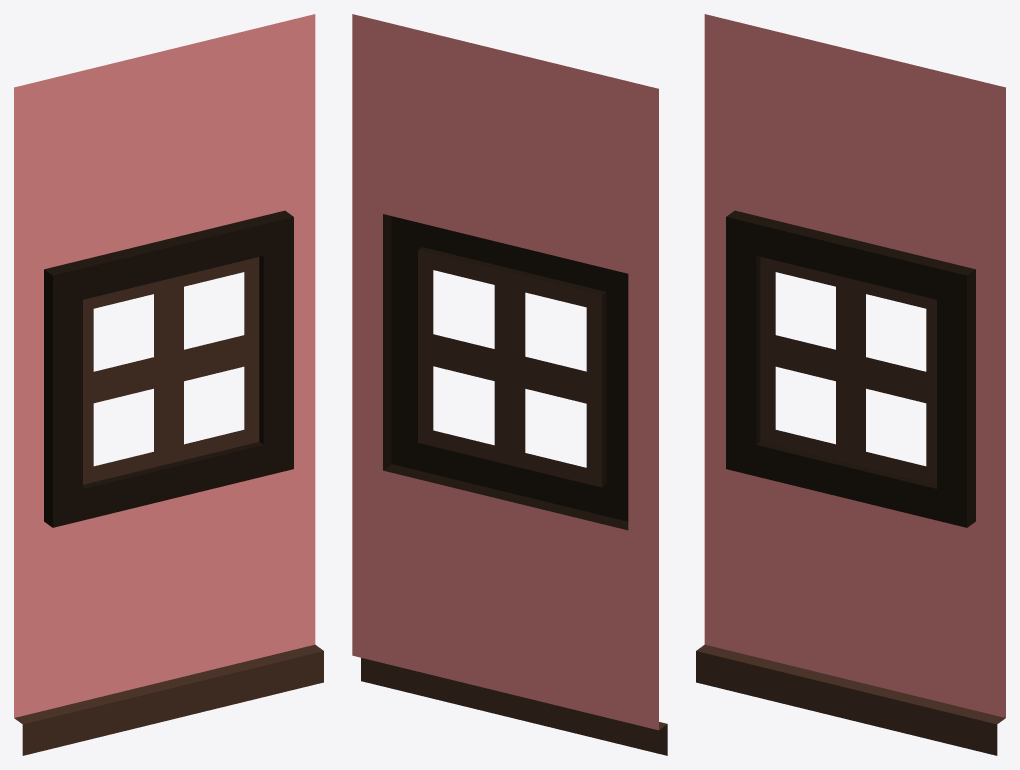
Rendered from SM_Fenetre_1x1.fbx.
3 views of the same model, side by side, from view 1: azimuth 30°, elevation 25°; view 2: azimuth 150°, elevation 25°; view 3: azimuth 330°, elevation 25° (orthographic).
Visible parts, largest first — view 1: SM_Fenetre_1x1; view 2: SM_Fenetre_1x1; view 3: SM_Fenetre_1x1.
Boxes of the visible parts, x1,y1,x2,y2 form: SM_Fenetre_1x1: (14,14,323,755); SM_Fenetre_1x1: (352,14,667,755); SM_Fenetre_1x1: (696,14,1005,755).
Size of the model in its own units: 1 by 2.1 by 0.05.
